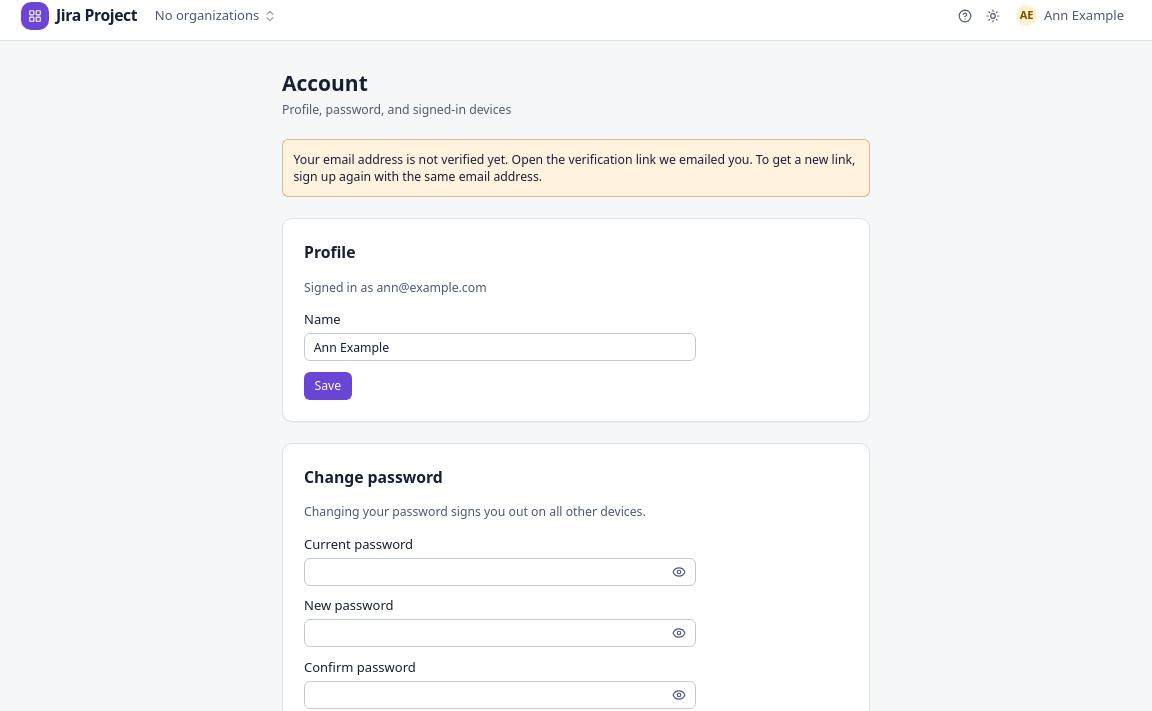
Test case: AccountPage › shows the current-password error from the server
The width and height of the screenshot is (1152, 711).
Type "wrong-password-1" into the password field labelled "Current password".
click(500, 572); type("wrong-password-1")  # box [304,558,696,586]
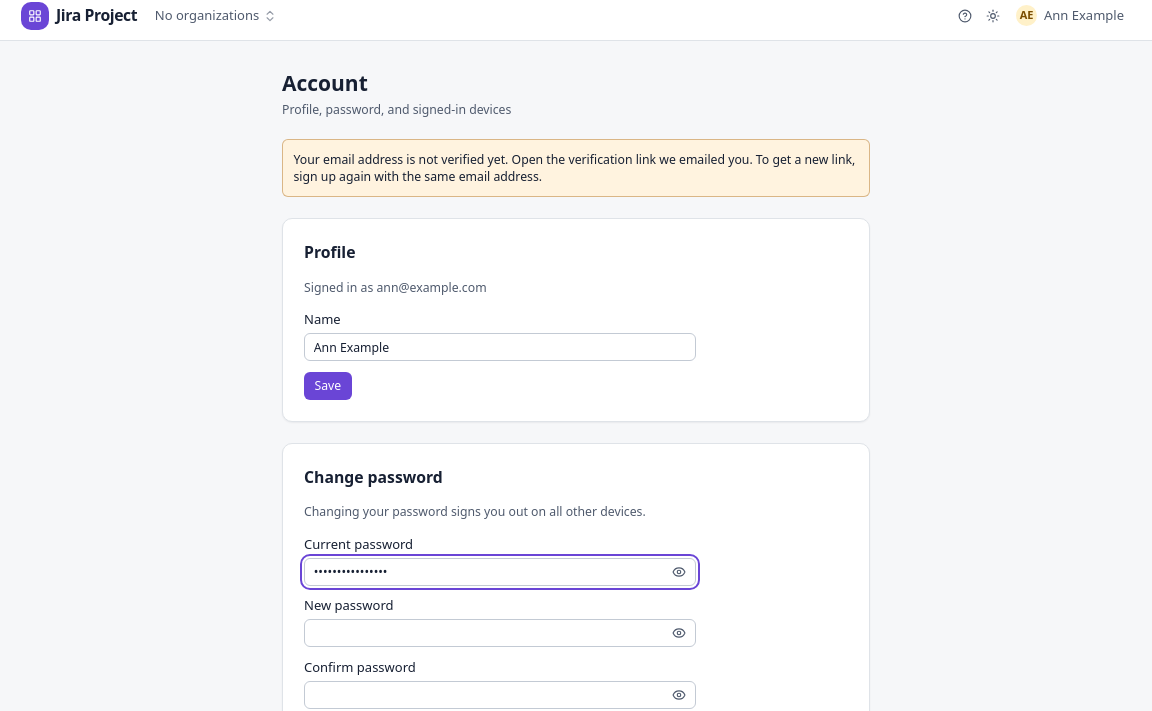
Type "Copper-Meadow-Falcon-58" into the password field labelled "New password".
click(500, 633); type("Copper-Meadow-Falcon-58")  # box [304,619,696,647]
(page scrolled)
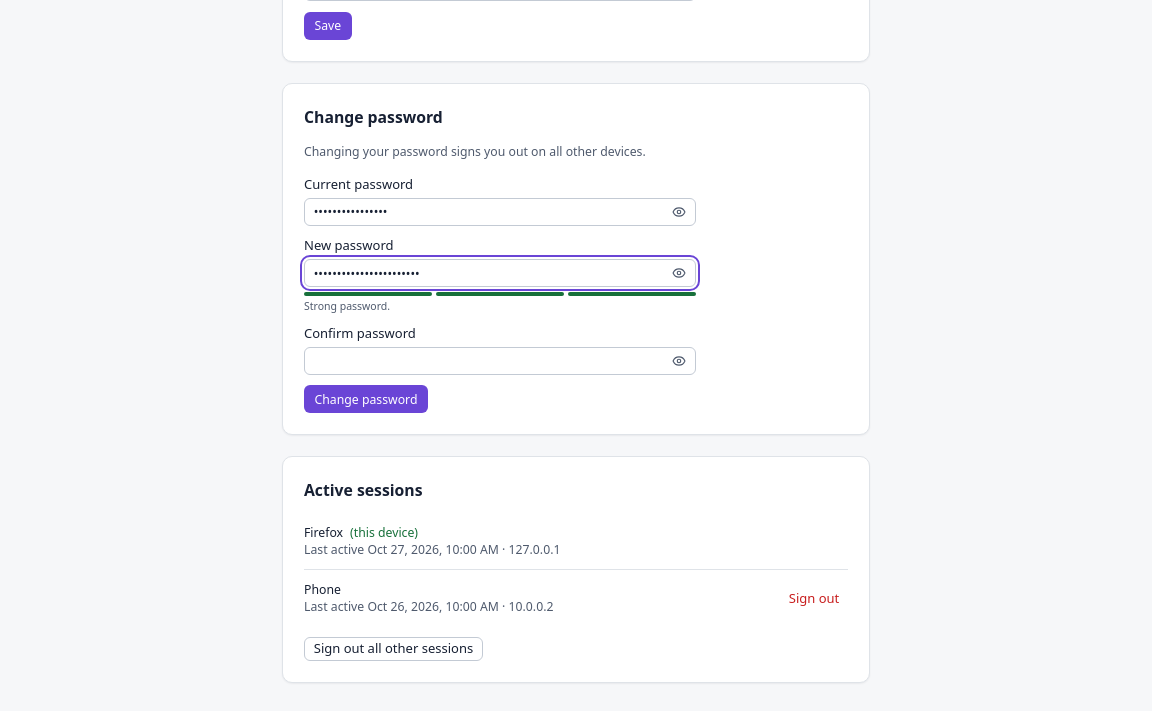
Type "Copper-Meadow-Falcon-58" into the password field labelled "Confirm password".
click(500, 361); type("Copper-Meadow-Falcon-58")  # box [304,347,696,375]
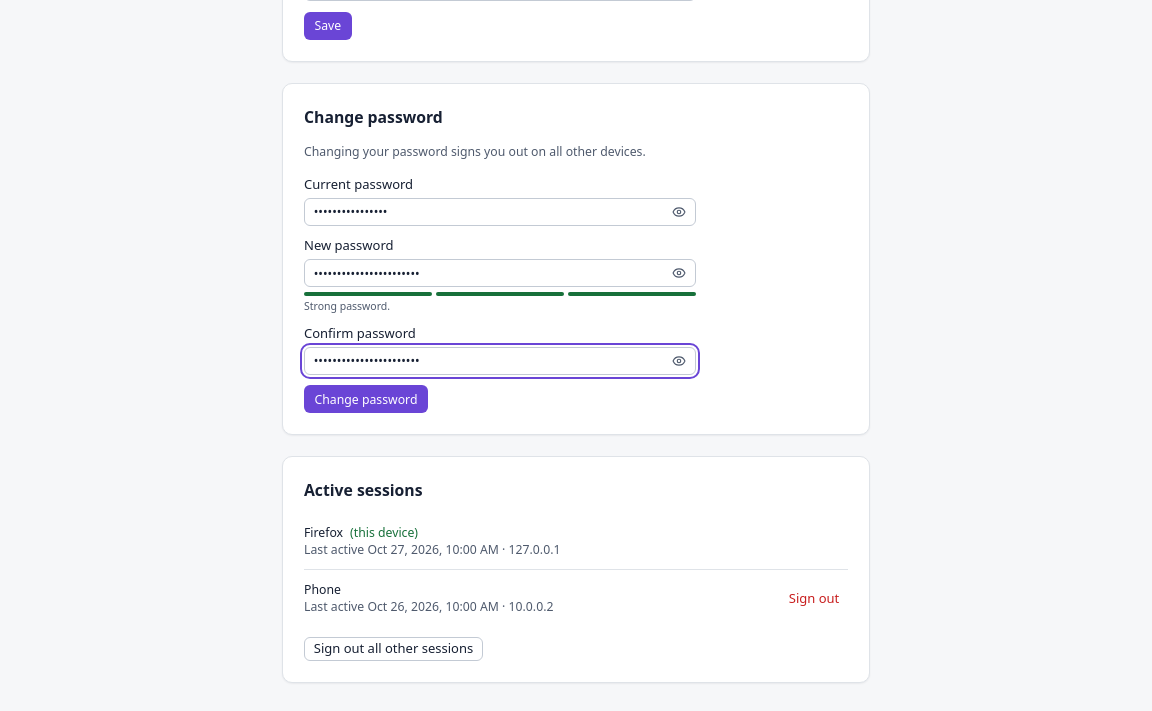
Click the button "Change password".
click(366, 399)  # box [304,385,428,413]
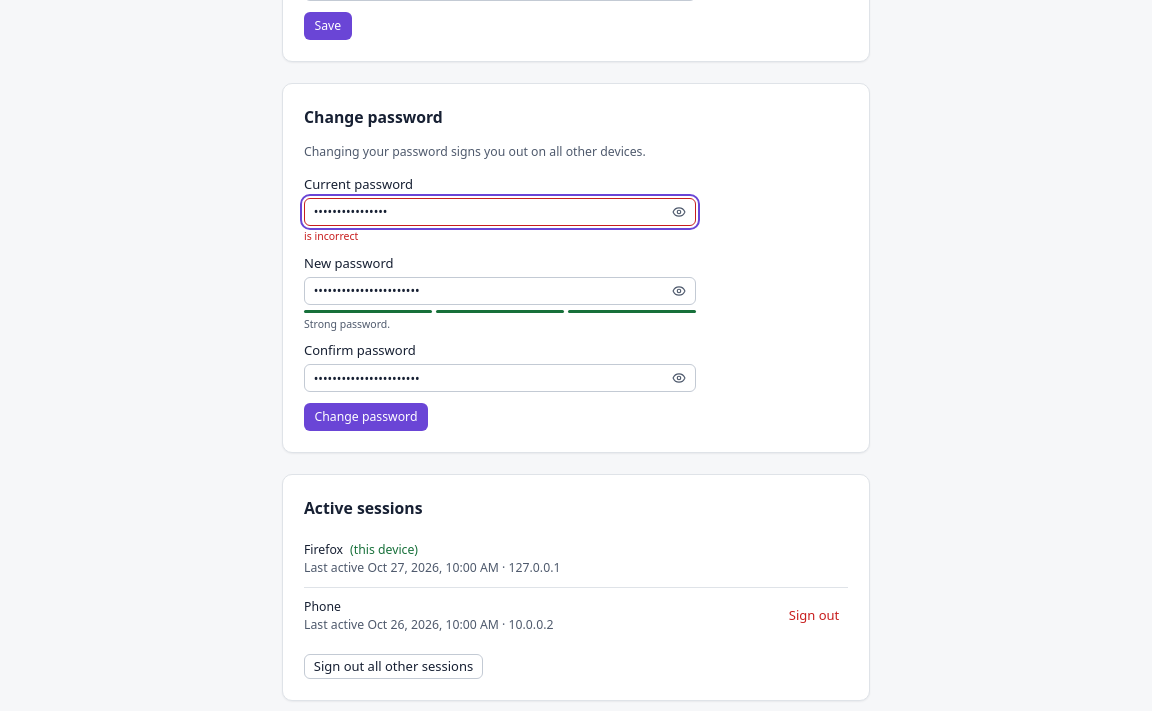
Check: the text "is incorrect" is shown, box [304,229,358,243]
